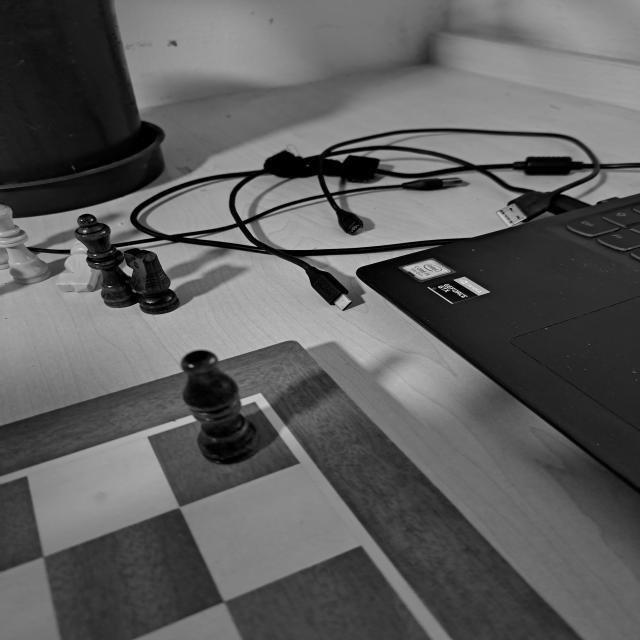chess-table-corners: (214, 377, 296, 430)
